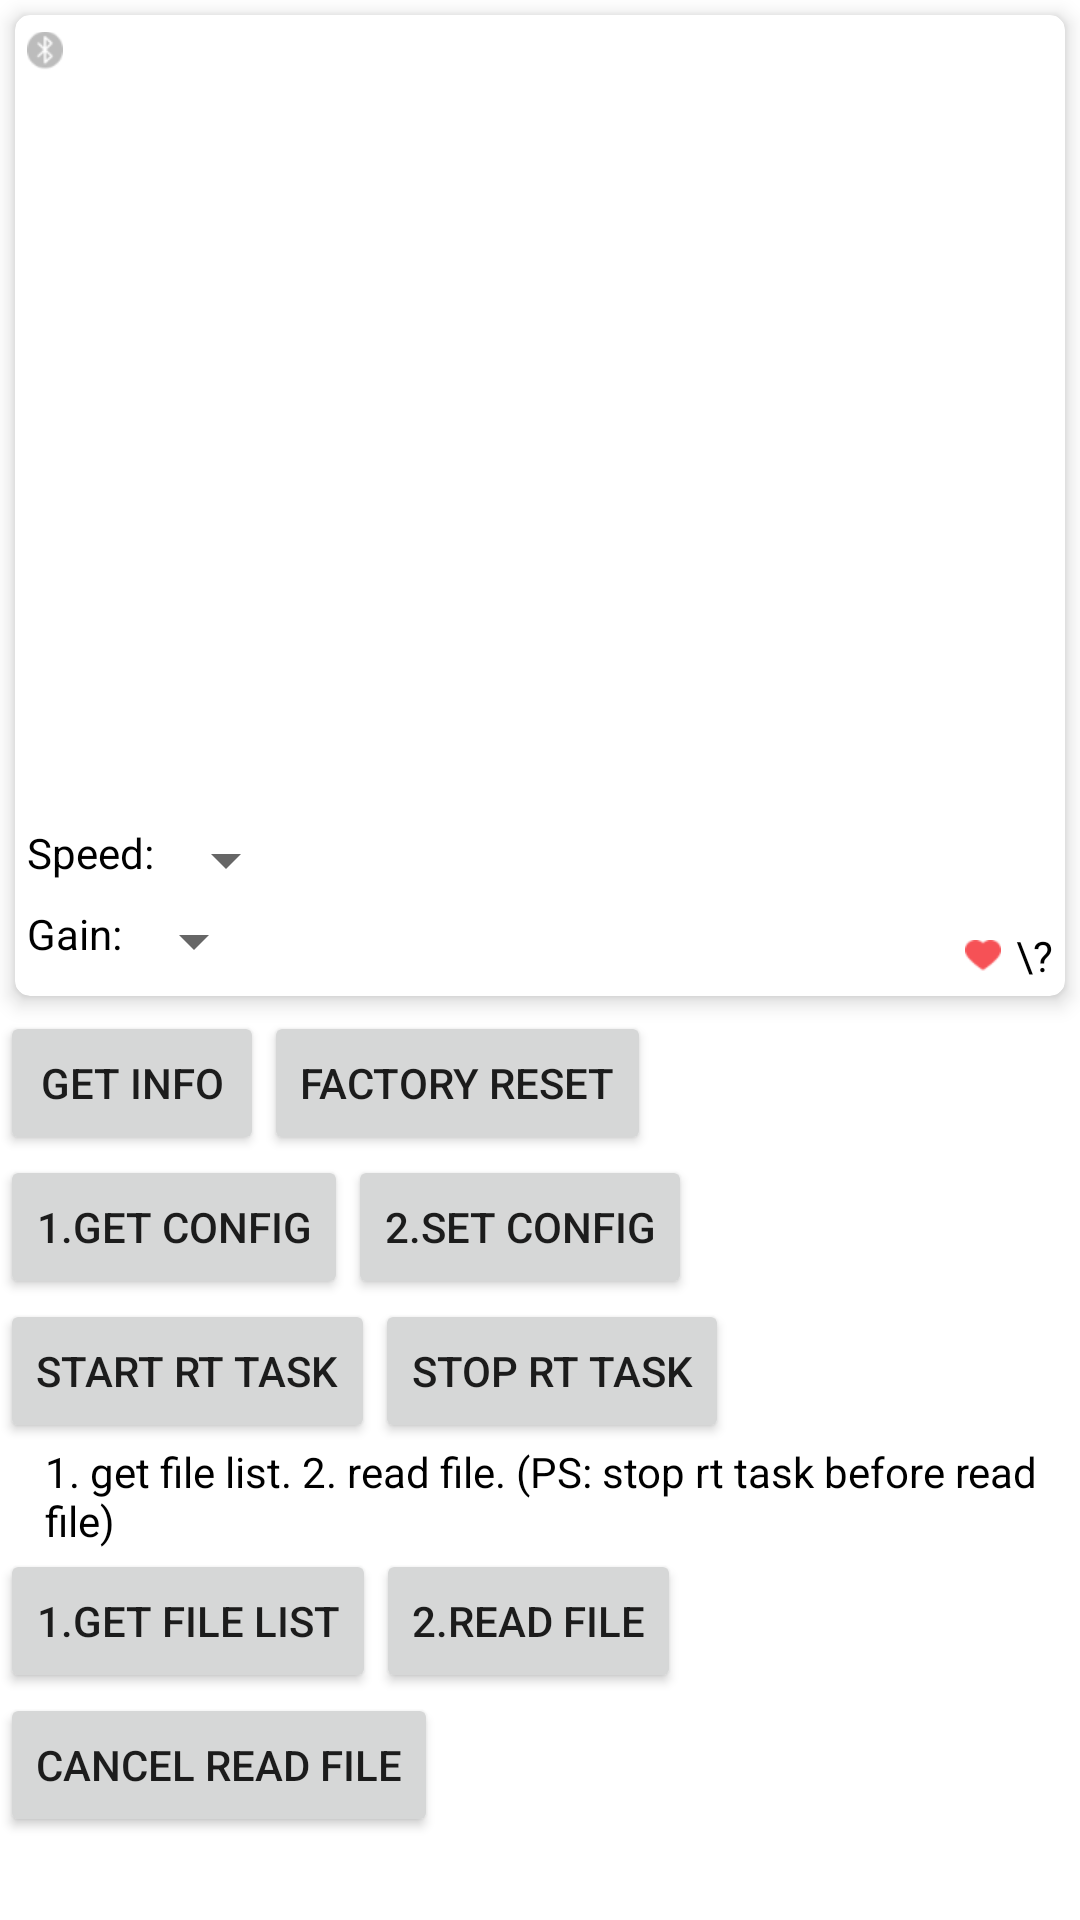

Named icons in this screenshot (1080w x 1920h) and their centers, point (x, y):
heart: point (983, 955)
